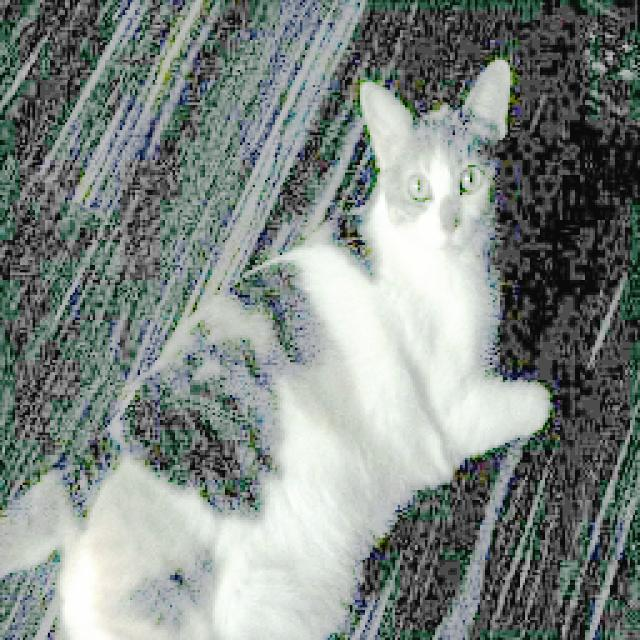cat: (49, 57, 558, 640)
